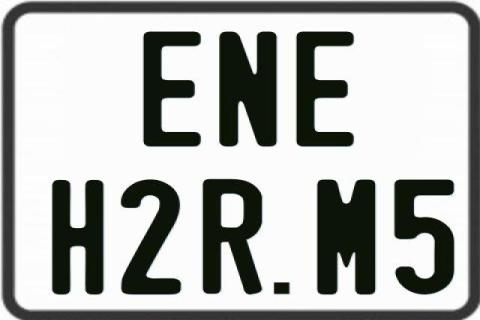0: (118, 179, 182, 295), (394, 180, 455, 298)
E: (294, 30, 357, 146), (143, 32, 203, 151)
H: (51, 179, 106, 293)
M: (315, 180, 373, 299)
N: (218, 32, 279, 149)
R: (201, 177, 265, 297)
